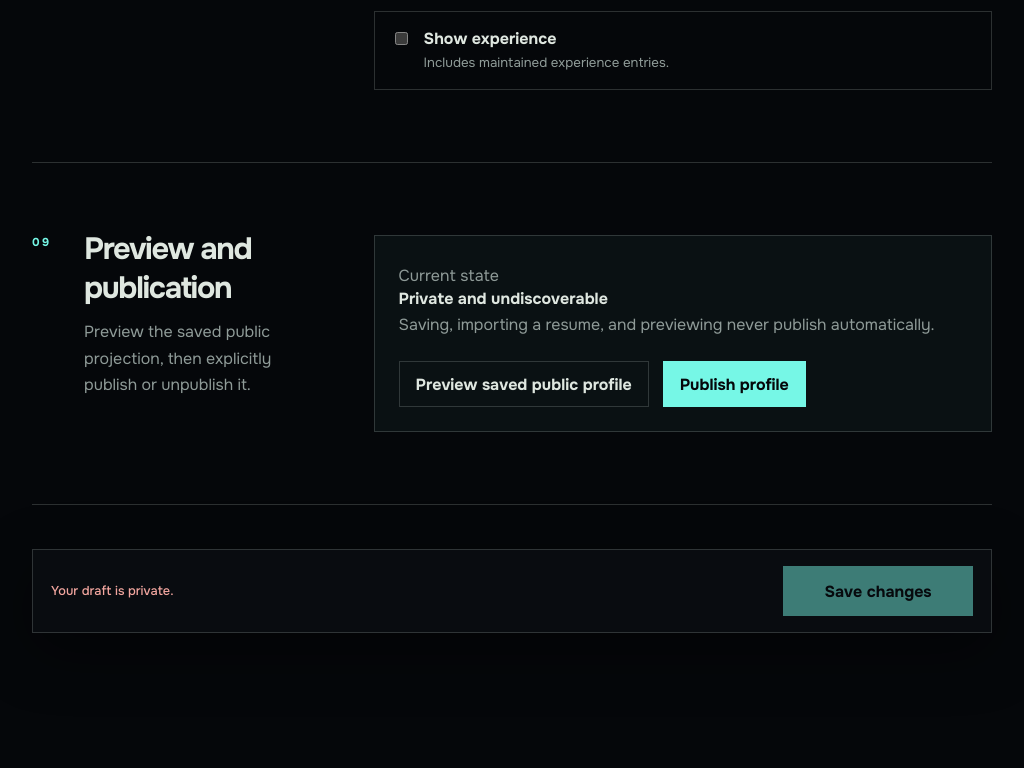
Scenario: private student profile editor › shows server publication requirements without publishing
(page scrolled)
Click the button "Publish profile".
click(734, 384)  # box x1=663 y1=361 x2=806 y2=407
(page scrolled)
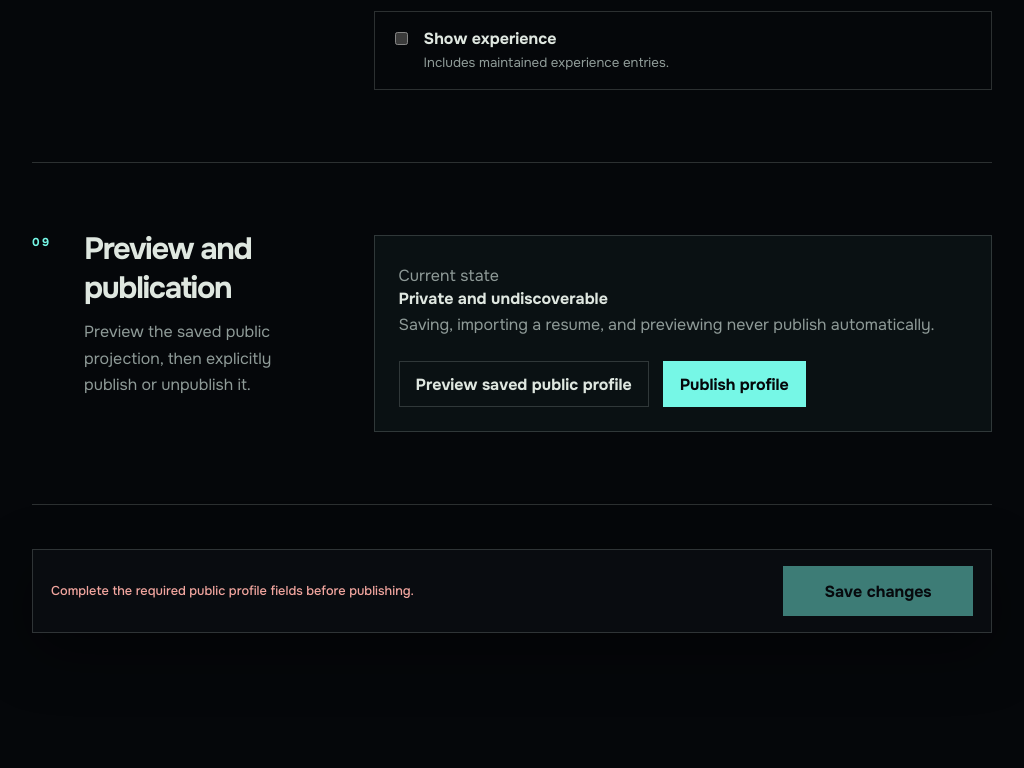
Check: the text "Complete the required public profile fields before publishing." is shown, box x1=51 y1=583 x2=414 y2=599
